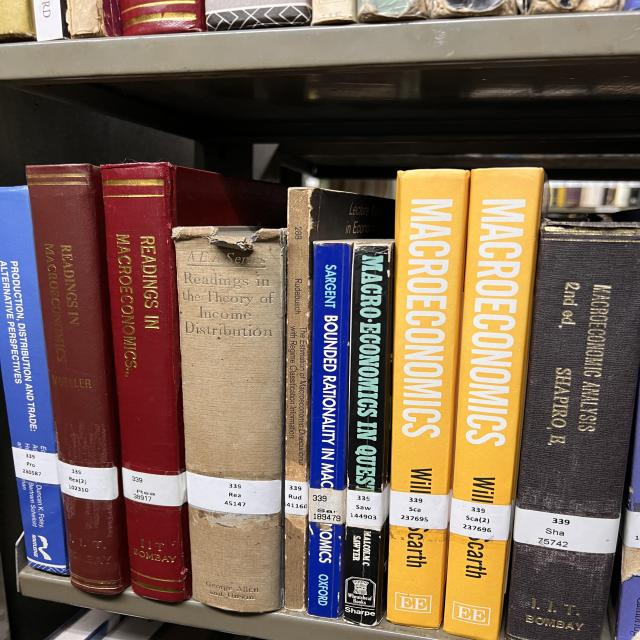Book: (102, 162, 287, 601), (505, 221, 640, 640), (443, 168, 545, 640), (283, 188, 395, 611), (27, 164, 130, 594), (173, 226, 285, 612), (387, 169, 470, 629), (0, 186, 68, 574), (343, 241, 393, 625), (307, 241, 353, 618)
Label: (513, 508, 620, 554), (187, 471, 282, 515), (450, 499, 512, 541), (122, 468, 187, 506), (390, 490, 450, 530), (58, 460, 118, 500), (345, 485, 390, 529), (12, 448, 60, 485), (308, 488, 347, 525), (285, 480, 308, 516)
